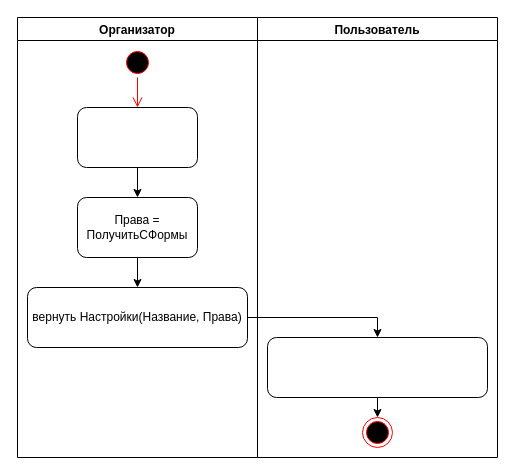
Image size: 515x475. Some labels were removed from this diagram. The shapes that lost their labels are listed below. From the top down, each one's centre as x and y in pixels, then its label:
At [137,137]: "Название = ПолучитьСФормы".
At [377,367]: "Установить(Настройки)".
